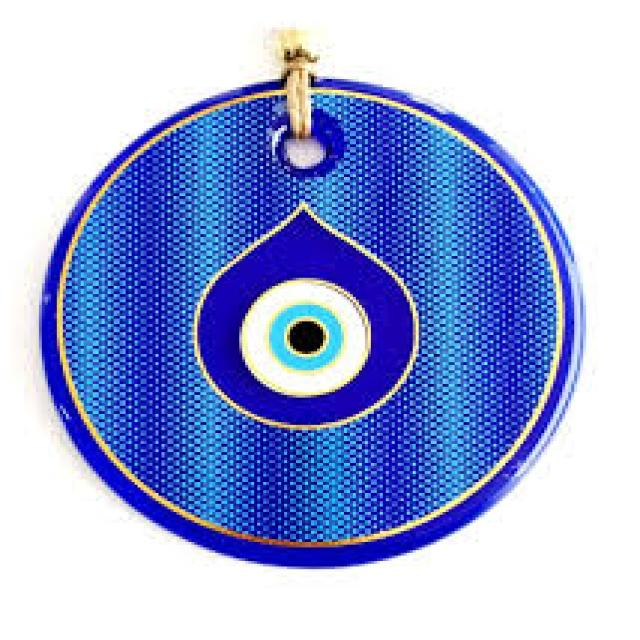Nazar-Boncugu: (39, 68, 586, 569)
